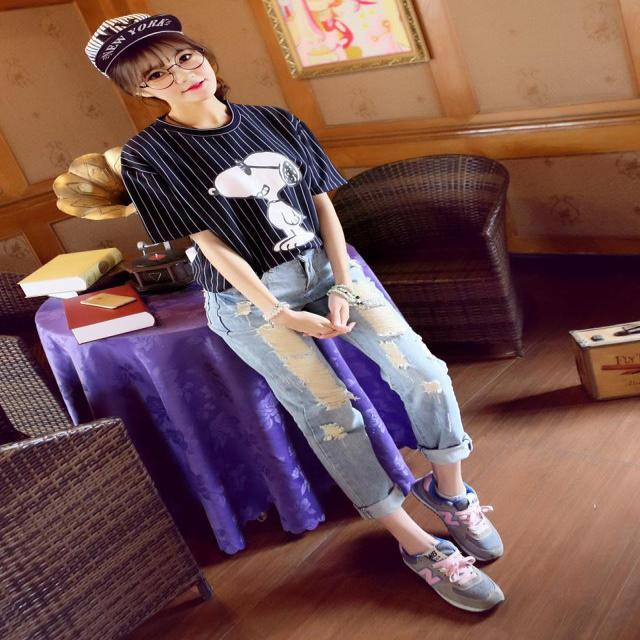short-sleeve-top: (108, 103, 390, 288)
